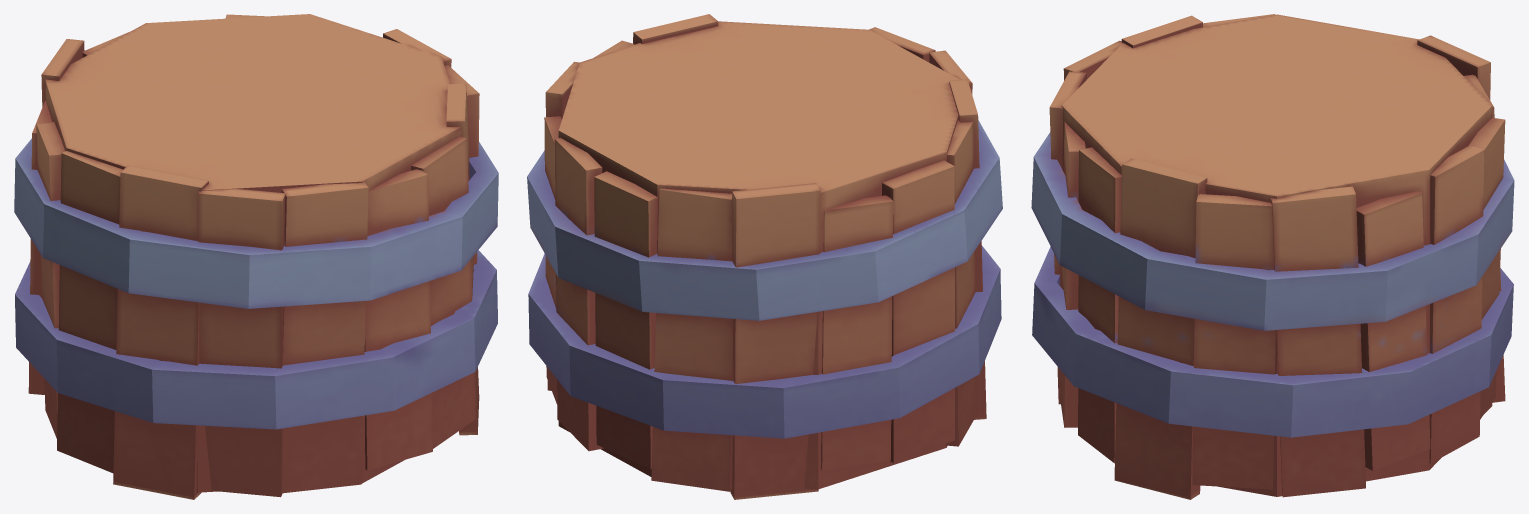
File: Barrel_Wide.glb
3 renders of one model, left to right at view 1: azimuth 30°, elevation 25°; view 2: azimuth 150°, elevation 25°; view 3: azimuth 270°, elevation 25°, orthographic. The views are drawn at different scales.
Visible parts, largest first — view 1: Barrel_Wide; view 2: Barrel_Wide; view 3: Barrel_Wide.
Part boxes in pixels (box(x1,y1,x2,y2)): Barrel_Wide: box(14, 14, 498, 499); Barrel_Wide: box(527, 14, 1002, 499); Barrel_Wide: box(1031, 14, 1514, 499).
Bounding box in the file's own units: 1.1 × 0.7868 × 1.1.
1 material, 1 textured.
